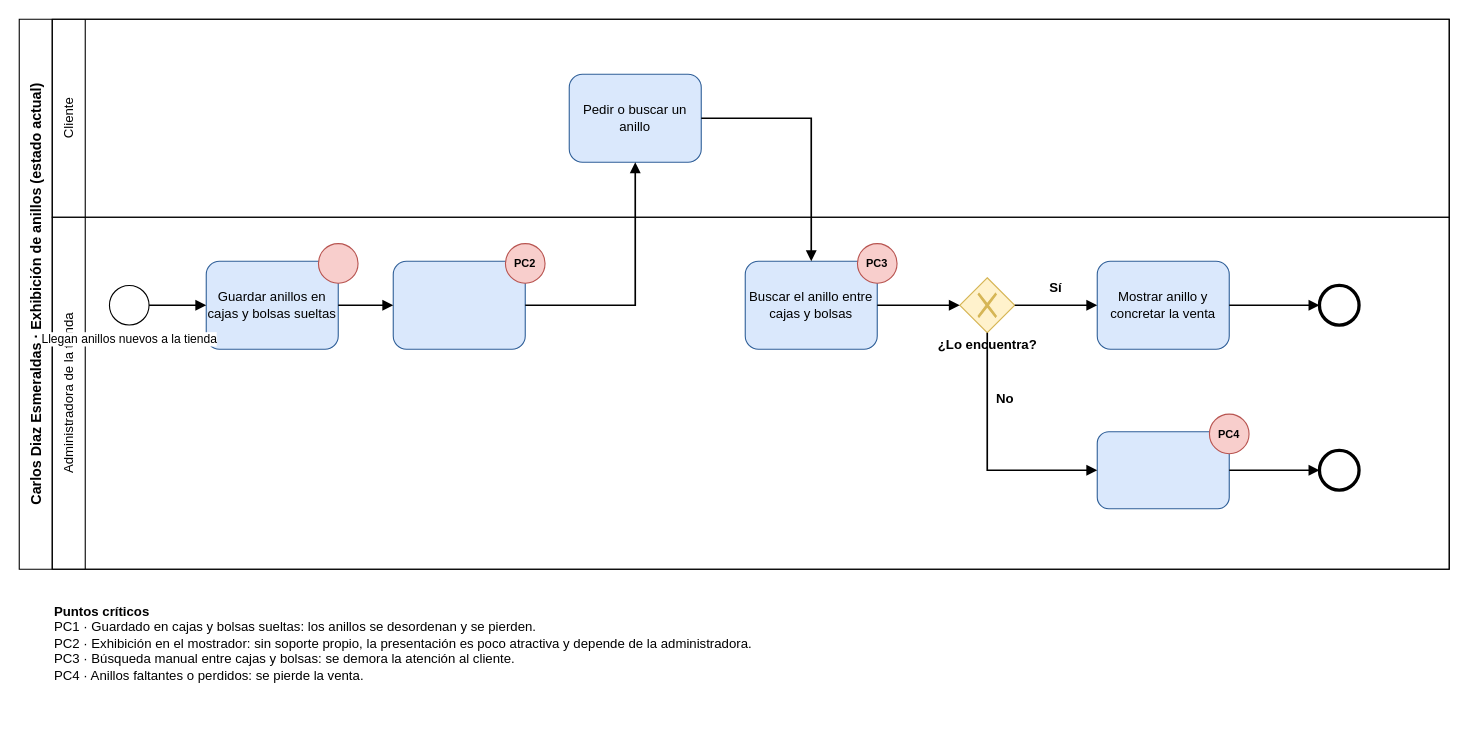
The diagram is 1469 pixels wide and 737 high, and some of its shapes have lost their labels. The box of each missing label's shape, as (x1, y1, x2, y2) in pixels:
Cliente compra: (1318, 284, 1359, 325)
PC1: (317, 243, 358, 283)
Registrar anillo faltante o perdido: (1096, 431, 1229, 509)
Sacar y acomodar anillos en el mostrador: (392, 260, 525, 349)
Venta perdida: (1318, 449, 1359, 490)
